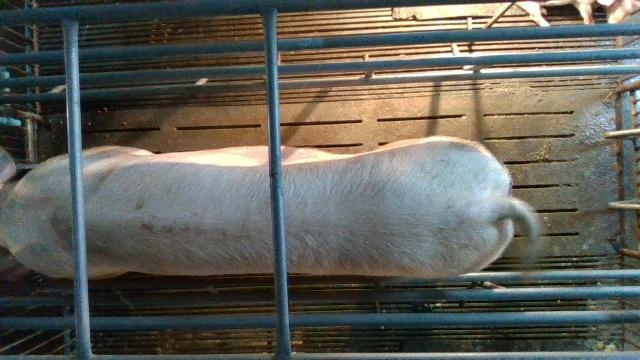sow-stand-feed: (0, 133, 542, 280)
